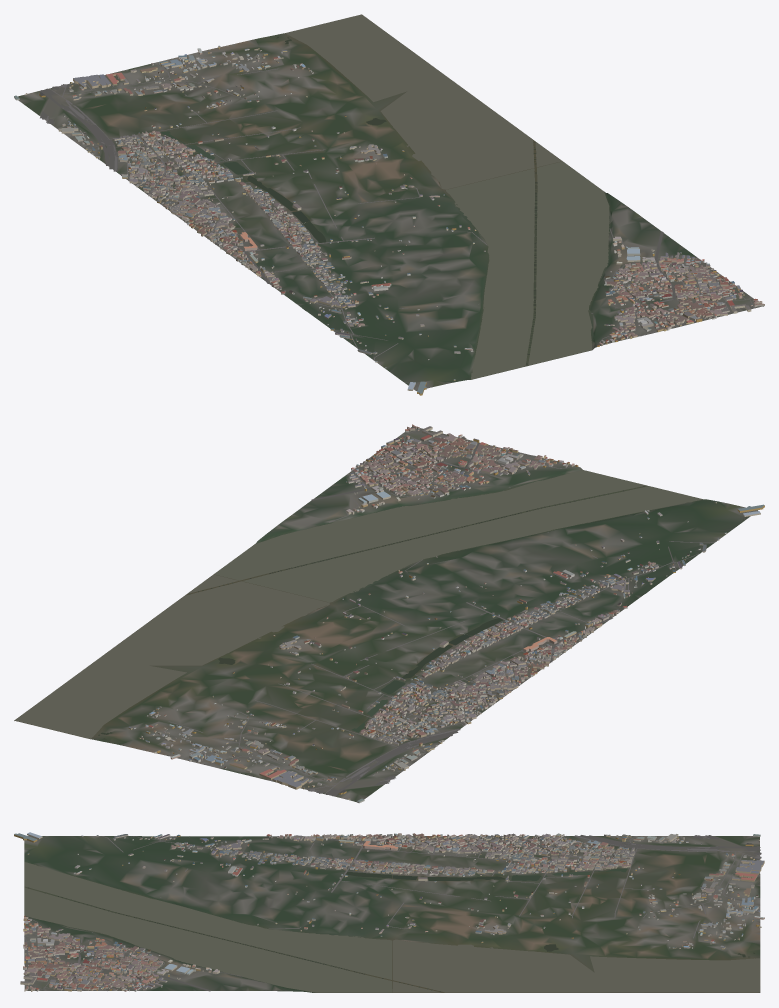
3 renders of one model, top to bottom at view 1: azimuth 30°, elevation 25°; view 2: azimuth 150°, elevation 25°; view 3: azimuth 270°, elevation 25°, orthographic. The views are drawn at different scales.
Visible parts, largest first — view 1: ground, water, buildings, roads; view 2: ground, water, buildings, roads; view 3: ground, water, buildings, roads.
Boxes of the visible parts, left/top/right/bottom form: ground: left=18, top=17, right=763, bottom=390; water: left=160, top=14, right=609, bottom=379; buildings: left=14, top=45, right=764, bottom=395; roads: left=39, top=63, right=754, bottom=360; ground: left=14, top=427, right=757, bottom=802; water: left=15, top=470, right=702, bottom=739; buildings: left=128, top=424, right=764, bottom=803; roads: left=152, top=428, right=716, bottom=796; ground: left=24, top=836, right=760, bottom=992; water: left=24, top=862, right=759, bottom=992; buildings: left=14, top=832, right=764, bottom=991; roads: left=24, top=835, right=761, bottom=991.
Size of the model in its own units: 1431 by 22.71 by 2862.
